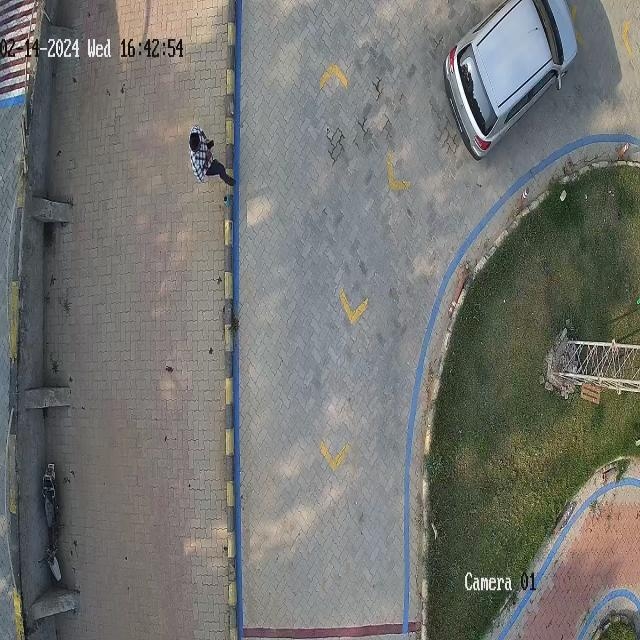car: (442, 0, 579, 163)
